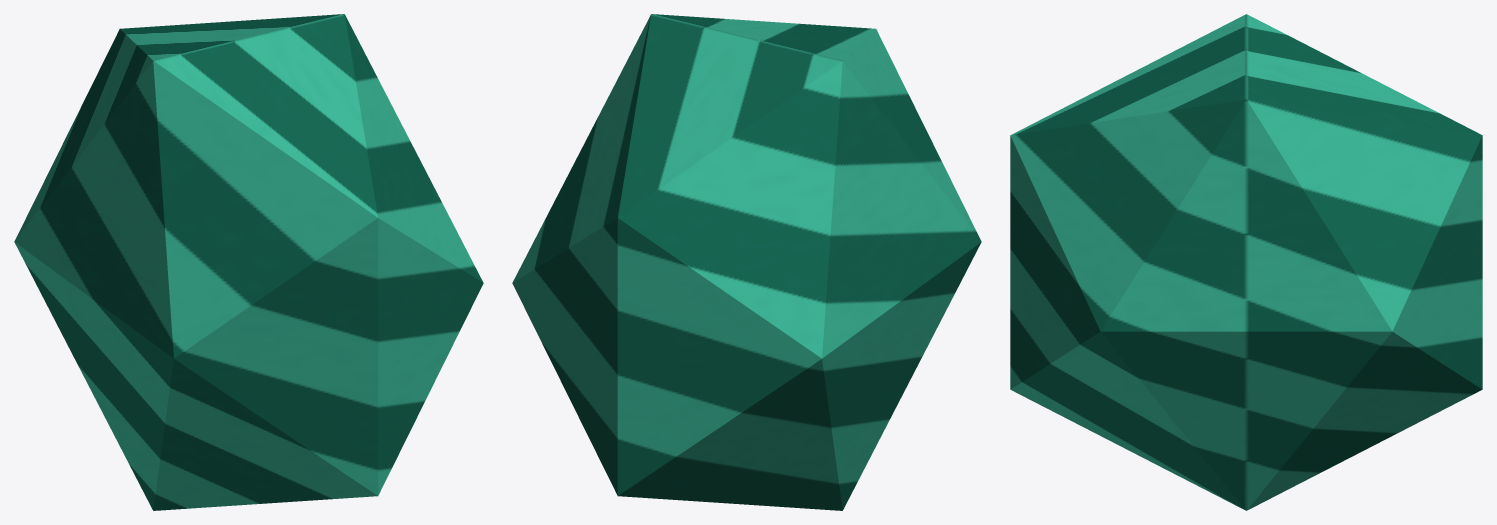
3 renders of one model, left to right at view 1: azimuth 30°, elevation 25°; view 2: azimuth 150°, elevation 25°; view 3: azimuth 270°, elevation 25°, orthographic. The views are drawn at different scales.
Parts seen in each view (by area): view 1: geometry_0; view 2: geometry_0; view 3: geometry_0.
Boxes of the visible parts, bbox=[...] form: geometry_0: bbox=[14, 14, 483, 510]; geometry_0: bbox=[512, 14, 981, 510]; geometry_0: bbox=[1010, 14, 1482, 510].
Size of the model in its own units: 0.8226 by 1.14 by 1.19.
Materials: 1 (1 with a texture image).
